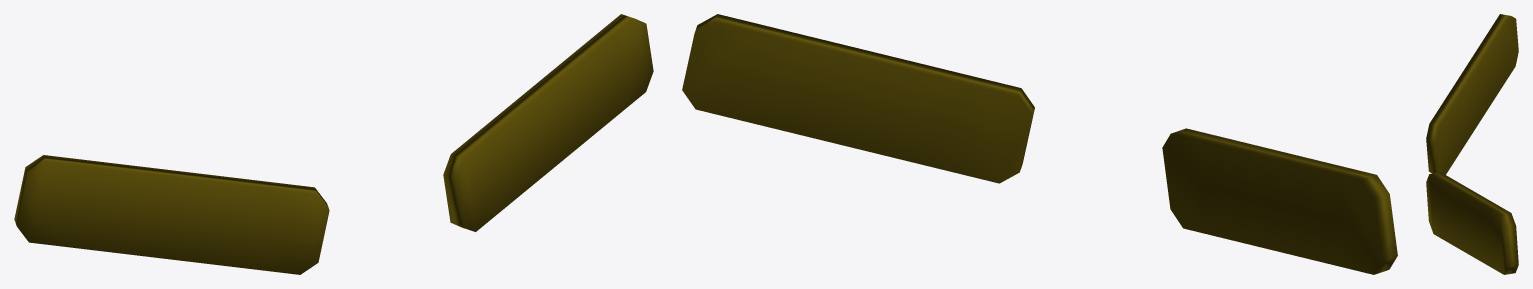
File: Bushy_Eyebrows.fbx
3 renders of one model, left to right at view 1: azimuth 30°, elevation 25°; view 2: azimuth 150°, elevation 25°; view 3: azimuth 270°, elevation 25°, orthographic. The views are drawn at different scales.
Visible parts, largest first — view 1: Bushy_EyeBrow_R, Bushy_EyeBrow_L; view 2: Bushy_EyeBrow_L, Bushy_EyeBrow_R; view 3: Bushy_EyeBrow_R, Bushy_EyeBrow_L.
Boxes of the visible parts, <box> form: Bushy_EyeBrow_R: <box>14,155,329,274</box>; Bushy_EyeBrow_L: <box>443,14,653,231</box>; Bushy_EyeBrow_L: <box>682,14,1034,183</box>; Bushy_EyeBrow_R: <box>1162,128,1397,274</box>; Bushy_EyeBrow_R: <box>1426,14,1518,174</box>; Bushy_EyeBrow_L: <box>1426,172,1518,274</box>.
Size of the model in its own units: 23.77 by 4.58 by 4.29.
